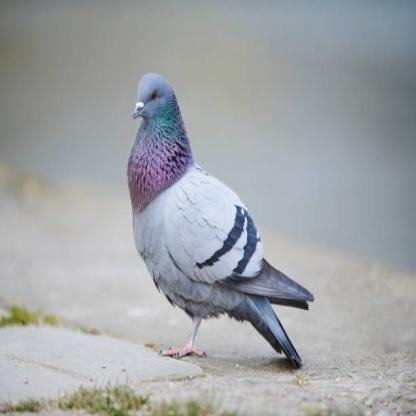Rock Pigeon: (122, 70, 308, 363)
